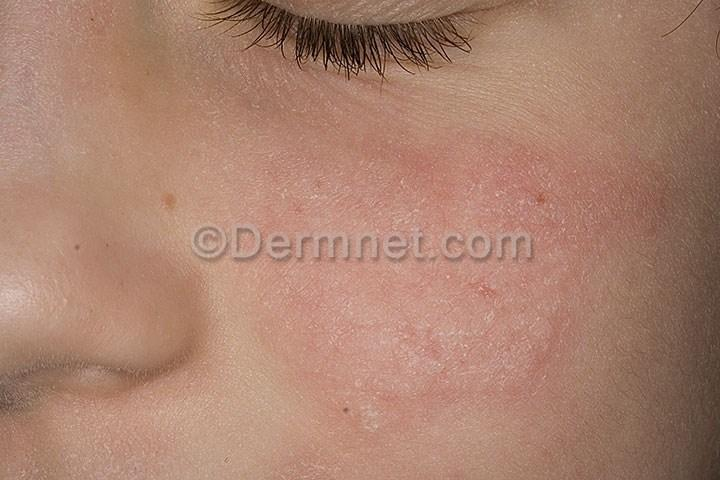eritema 1: (254, 129, 659, 431)
xerosis 1: (168, 0, 677, 435)
